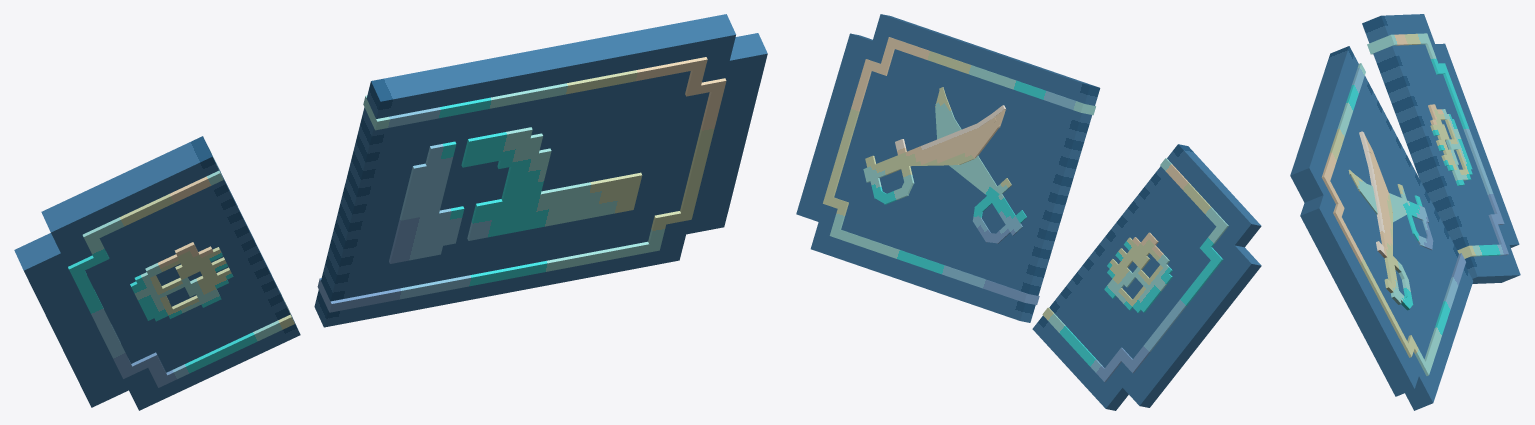
3 renders of one model, left to right at view 1: azimuth 30°, elevation 25°; view 2: azimuth 150°, elevation 25°; view 3: azimuth 270°, elevation 25°, orthographic. The views are drawn at different scales.
Parts seen in each view (by area): view 1: ticket_ship_ticket$$(3)-Local, ticket_ship_tab$$(3)-Local, icon$$(3)-Local, skull$$(2)-Local; view 2: ticket_ship_ticket$$(3)-Local, ticket_ship_tab$$(3)-Local, skull$$(2)-Local, icon$$(3)-Local, sword_left$$(3)-Local, sword_right$$(3)-Local, left_blade02$$(7)-Local; view 3: ticket_ship_ticket$$(3)-Local, ticket_ship_tab$$(3)-Local, skull$$(2)-Local, icon$$(3)-Local, sword_left$$(3)-Local, sword_right$$(3)-Local.
Part boxes in pixels (bbox=[...]): ticket_ship_ticket$$(3)-Local: bbox=[314, 14, 767, 327]; ticket_ship_tab$$(3)-Local: bbox=[14, 136, 300, 410]; icon$$(3)-Local: bbox=[317, 57, 726, 312]; skull$$(2)-Local: bbox=[68, 147, 294, 387]; ticket_ship_ticket$$(3)-Local: bbox=[796, 14, 1100, 322]; ticket_ship_tab$$(3)-Local: bbox=[1032, 144, 1261, 410]; skull$$(2)-Local: bbox=[1042, 158, 1228, 382]; icon$$(3)-Local: bbox=[823, 37, 1095, 304]; sword_left$$(3)-Local: bbox=[863, 120, 991, 204]; sword_right$$(3)-Local: bbox=[937, 103, 1026, 243]; left_blade02$$(7)-Local: bbox=[949, 164, 999, 201]; ticket_ship_ticket$$(3)-Local: bbox=[1290, 46, 1473, 410]; ticket_ship_tab$$(3)-Local: bbox=[1362, 14, 1520, 283]; skull$$(2)-Local: bbox=[1367, 33, 1508, 258]; icon$$(3)-Local: bbox=[1321, 63, 1465, 375]; sword_left$$(3)-Local: bbox=[1368, 152, 1413, 310]; sword_right$$(3)-Local: bbox=[1358, 180, 1433, 250].
Size of the model in its own units: 115 by 59.99 by 42.85.
Materials: 18 (18 with a texture image).
